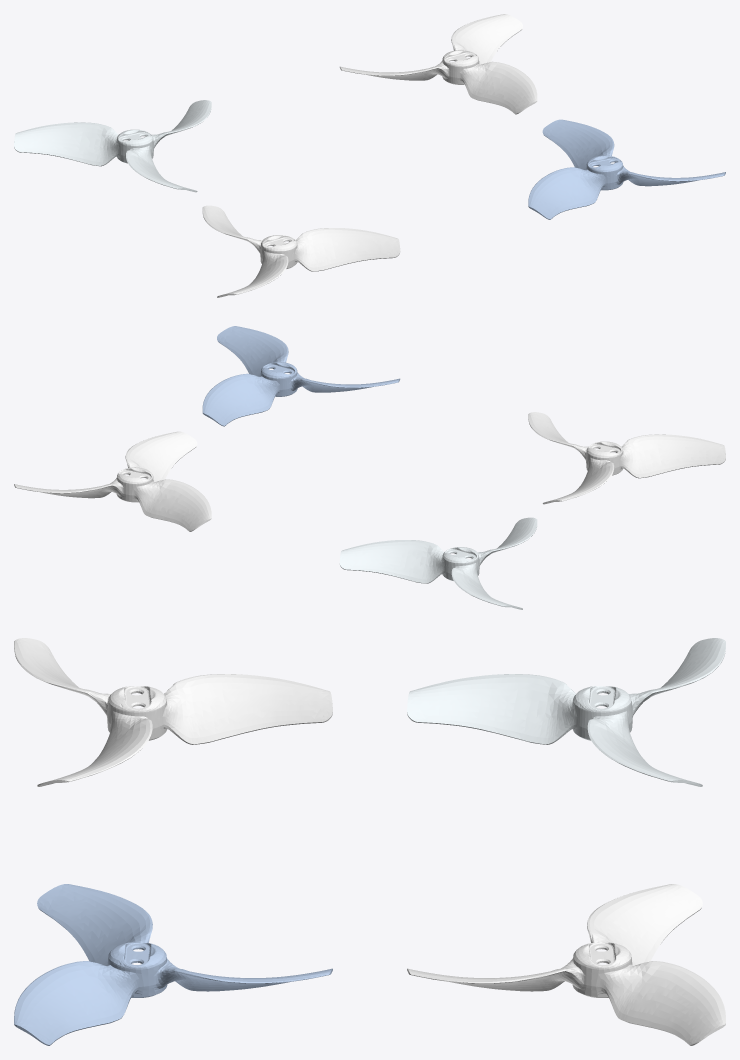
File: Propellers.glb
3 renders of one model, top to bottom at view 1: azimuth 30°, elevation 25°; view 2: azimuth 150°, elevation 25°; view 3: azimuth 270°, elevation 25°, orthographic. The views are drawn at different scales.
Parts seen in each view (by area): view 1: propeller1, propeller4, propeller3, propeller2; view 2: propeller4, propeller1, propeller2, propeller3; view 3: propeller4, propeller1, propeller3, propeller2.
Boxes of the visible parts, x1,y1,x2,y2 form: propeller1: (339, 14, 537, 114); propeller4: (528, 119, 725, 219); propeller3: (14, 100, 211, 192); propeller2: (202, 205, 400, 297); propeller4: (202, 326, 400, 426); propeller1: (14, 431, 211, 531); propeller2: (528, 412, 725, 504); propeller3: (339, 517, 537, 609); propeller4: (14, 884, 332, 1045); propeller1: (407, 884, 725, 1045); propeller3: (407, 638, 725, 786); propeller2: (14, 638, 332, 786).
Bounding box in the file's own units: 0.1832 × 0.00971 × 0.1379.
